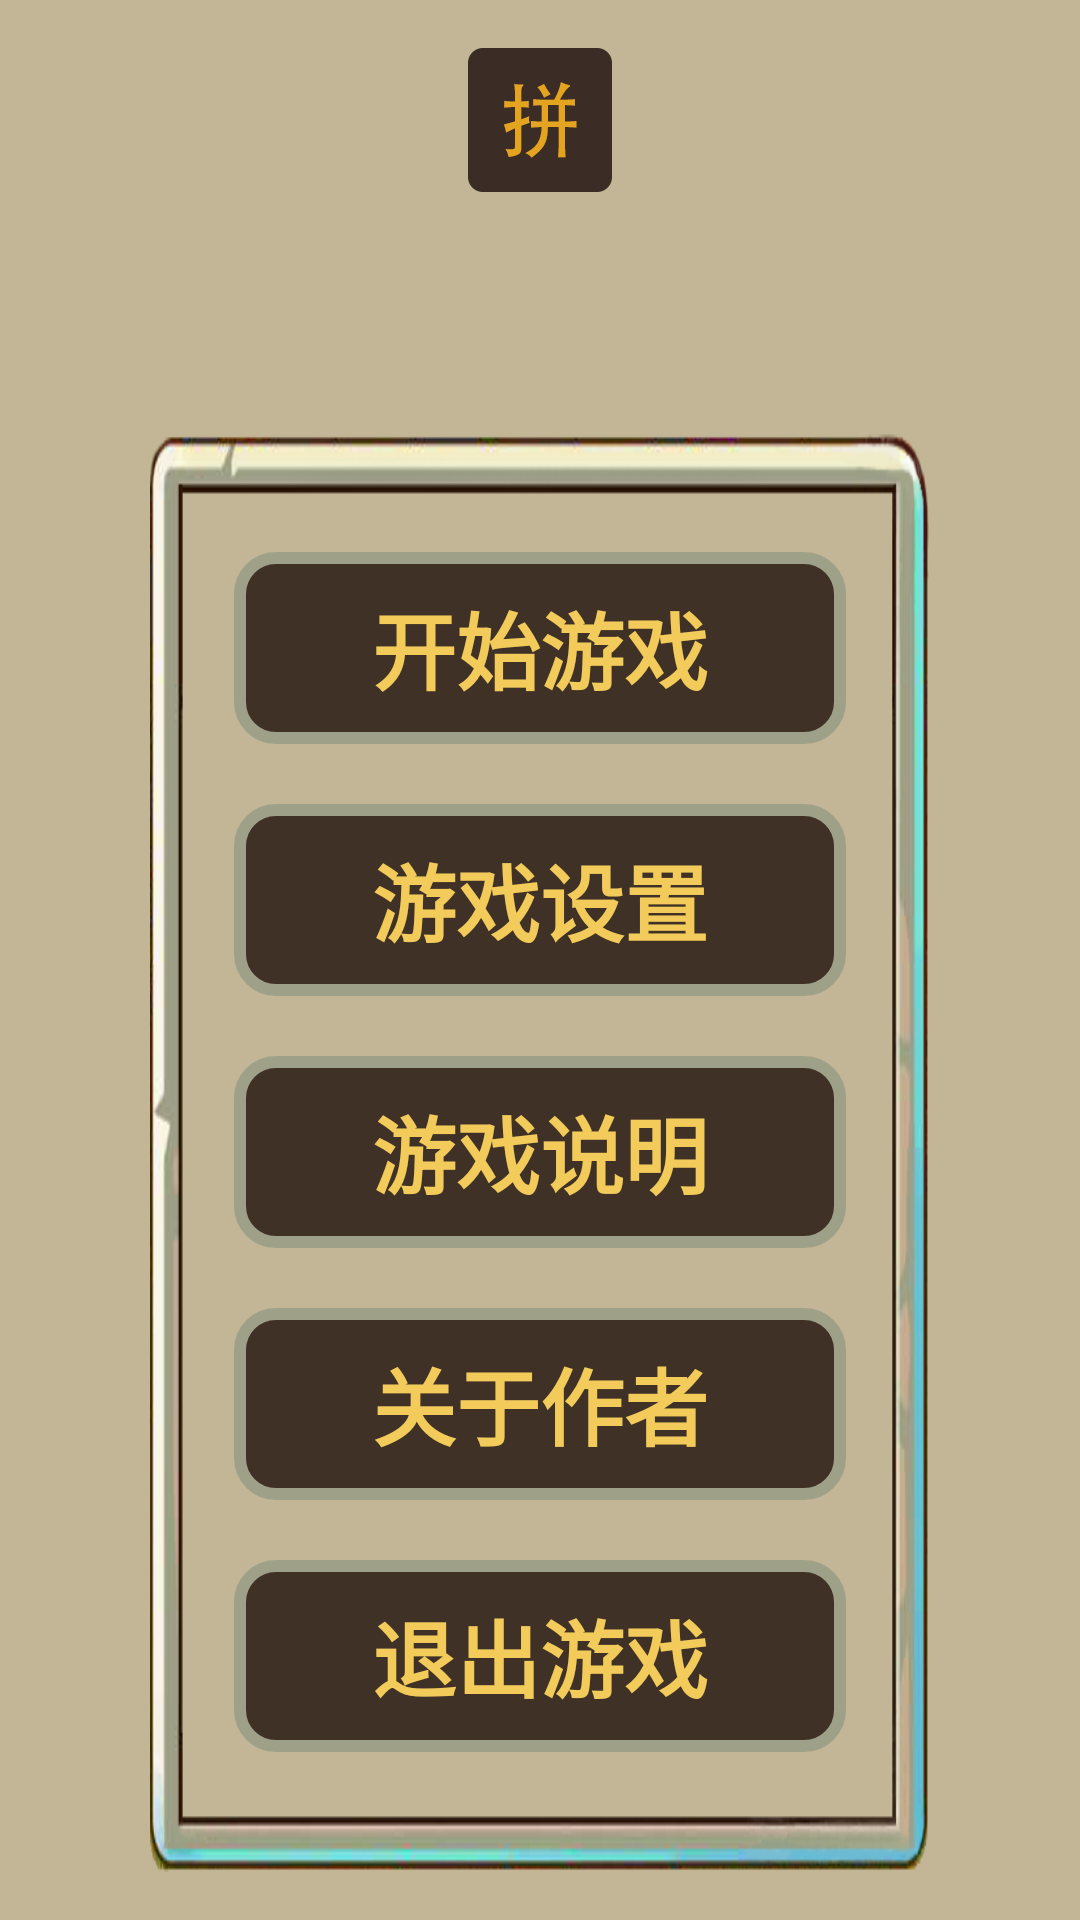

Icons on this 1080x1920 Android screen, each with its box as rect(x1, y1, x2, y2):
app: rect(468, 48, 612, 192)
